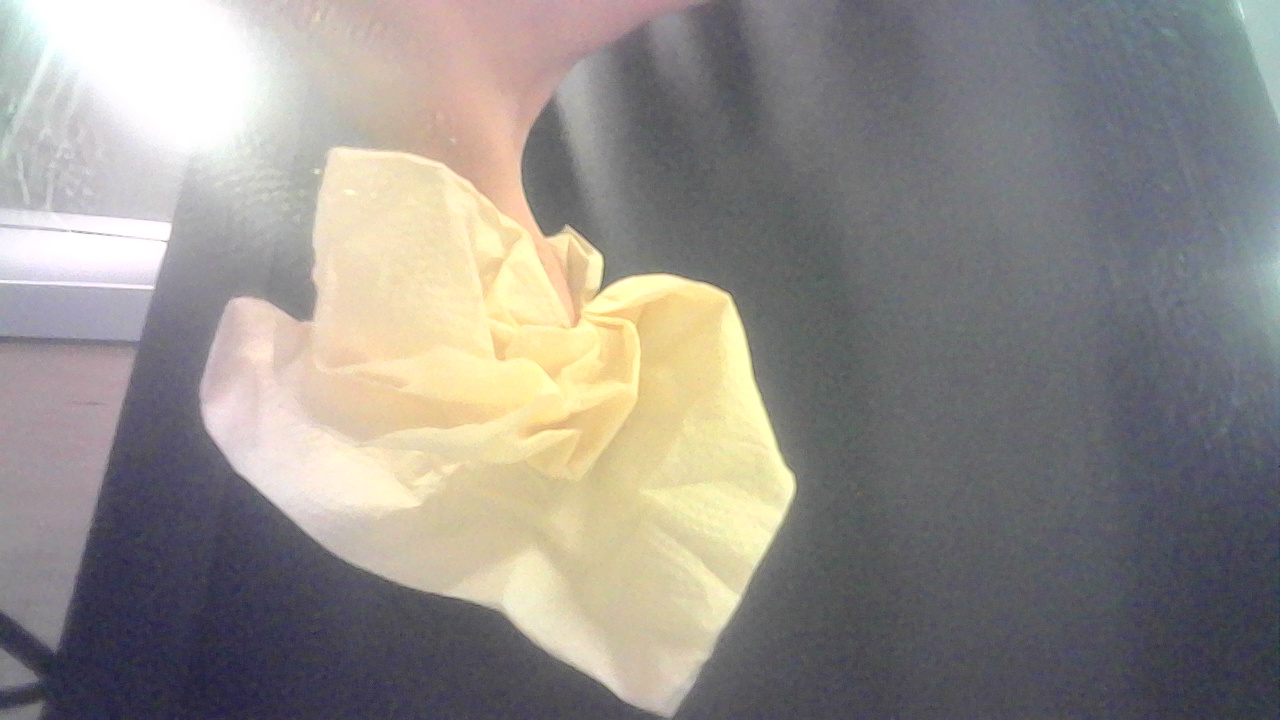Paper_Recycling: (200, 143, 835, 715)
